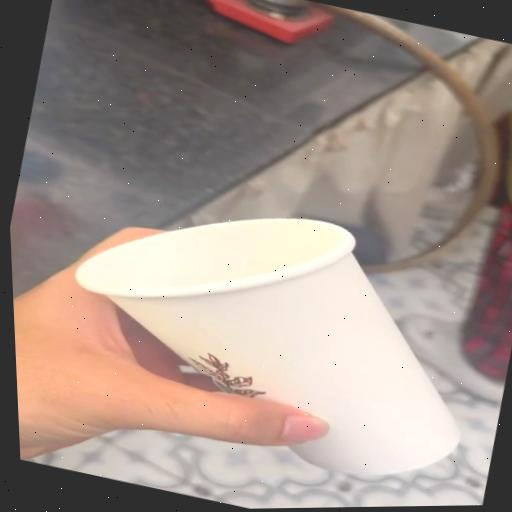Ly_giay: (76, 219, 458, 475)
